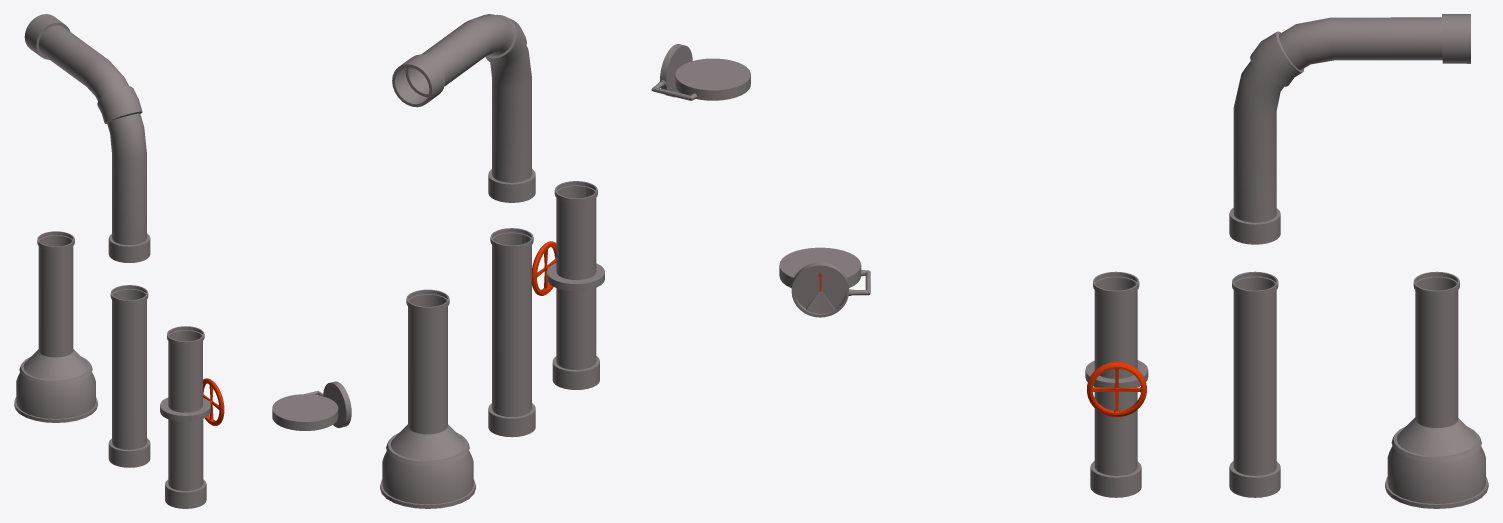
The model's file is tUBERIAS.fbx.
3 views of the same model, side by side, from view 1: azimuth 30°, elevation 25°; view 2: azimuth 150°, elevation 25°; view 3: azimuth 270°, elevation 25° (orthographic). The views are drawn at different scales.
Visible parts, largest first — view 1: Cube, Cube.002, Cube.003, Cube.001, Cylinder.001, Circle; view 2: Cube.002, Cube, Cube.003, Cube.001, Cylinder.001, Circle; view 3: Cube, Cube.002, Cube.001, Cube.003, Cylinder.001, Circle.
Part boxes in pixels (box(x1,y1,x2,y2)): Cube: box(24, 14, 150, 262); Cube.002: box(14, 231, 97, 422); Cube.003: box(160, 326, 210, 508); Cube.001: box(108, 285, 150, 467); Cylinder.001: box(272, 381, 351, 430); Circle: box(203, 378, 224, 425); Cube.002: box(380, 289, 475, 508); Cube: box(392, 14, 535, 202); Cube.003: box(546, 181, 604, 389); Cube.001: box(488, 228, 535, 437); Cylinder.001: box(651, 44, 750, 100); Circle: box(532, 241, 556, 295); Cube: box(1229, 14, 1470, 244); Cube.002: box(1385, 271, 1488, 508); Cube.001: box(1229, 271, 1280, 497); Cube.003: box(1085, 271, 1148, 497); Cylinder.001: box(779, 247, 870, 317); Circle: box(1087, 362, 1146, 416).
Size of the model in its own units: 360 by 1806 by 2466.
